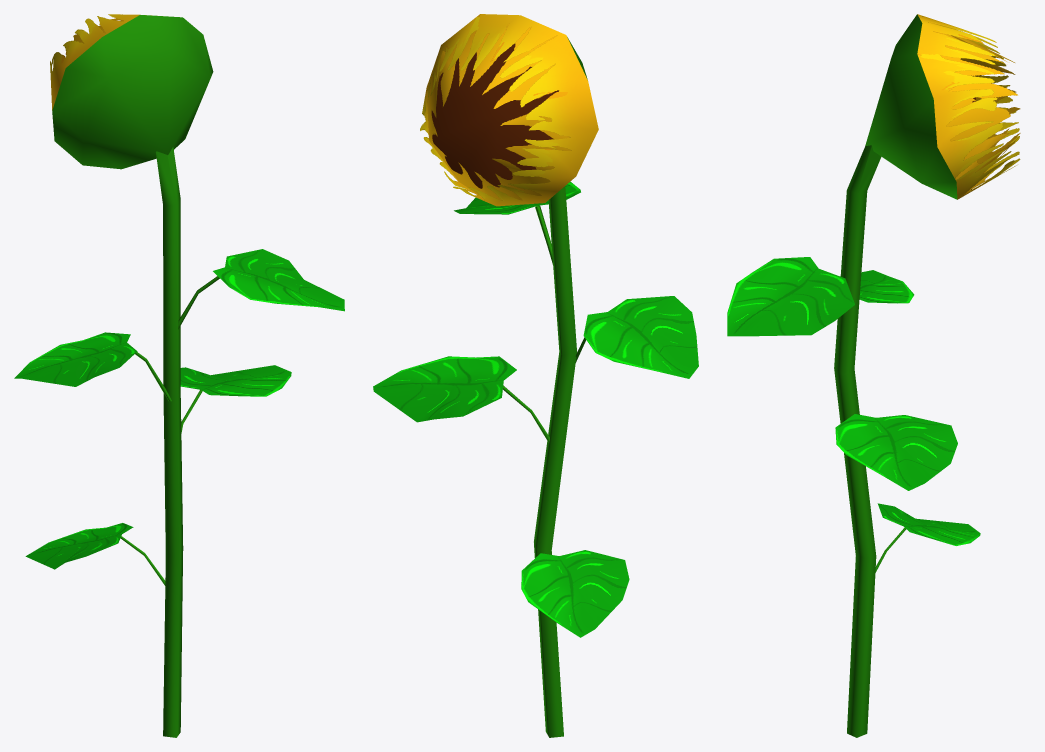
File: Sunflower Stage 2.fbx
3 views of the same model, side by side, from view 1: azimuth 30°, elevation 25°; view 2: azimuth 150°, elevation 25°; view 3: azimuth 270°, elevation 25° (orthographic). The views are drawn at different scales.
Visible parts, largest first — view 1: polySurface146, polySurface145; view 2: polySurface146, polySurface145; view 3: polySurface146, polySurface145.
Part boxes in pixels (x1=…): polySurface146: x1=14, y1=15, x2=344, y2=737; polySurface145: x1=50, y1=14, x2=157, y2=110; polySurface146: x1=373, y1=15, x2=698, y2=737; polySurface145: x1=420, y1=14, x2=598, y2=206; polySurface146: x1=727, y1=14, x2=1020, y2=737; polySurface145: x1=917, y1=14, x2=1020, y2=199.
Size of the model in its own units: 0.4488 by 1.04 by 0.4017.
Materials: 4 (3 with a texture image).
